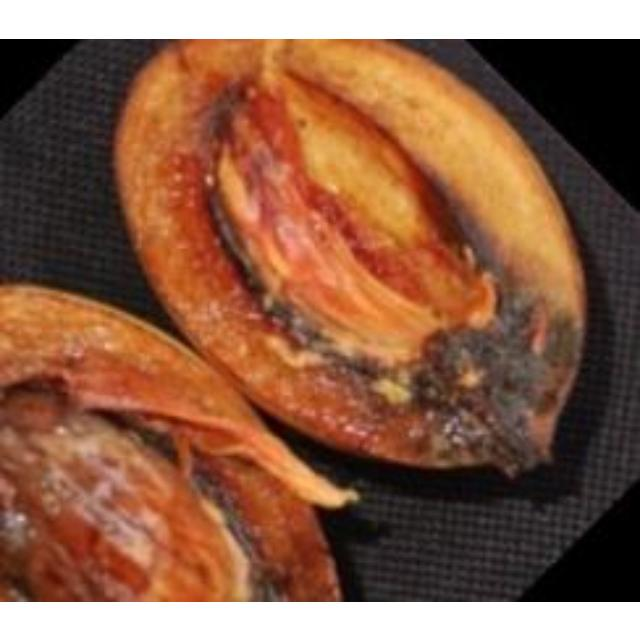damaged: (113, 38, 588, 481), (0, 282, 357, 599)
